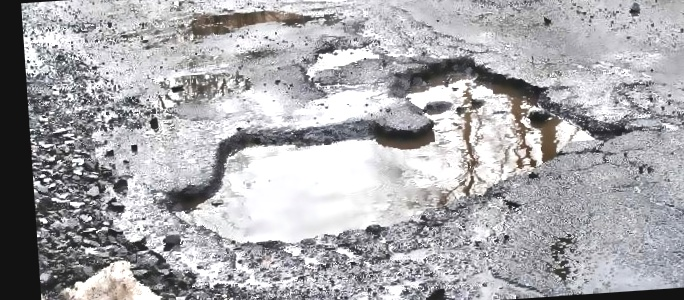pothole: (156, 41, 634, 252), (190, 2, 323, 39), (302, 39, 381, 80)
